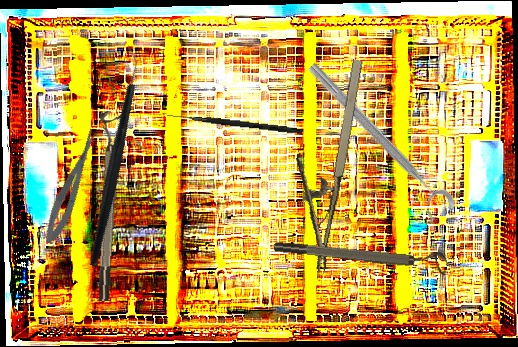Chopper: (17, 43, 207, 270)
Fixation Ring: (295, 58, 459, 225), (273, 231, 448, 276), (87, 110, 126, 302)
Hook Surgical: (167, 112, 303, 135)
Micro Scissor: (38, 126, 106, 247)
Needle Holder: (274, 52, 369, 274)
